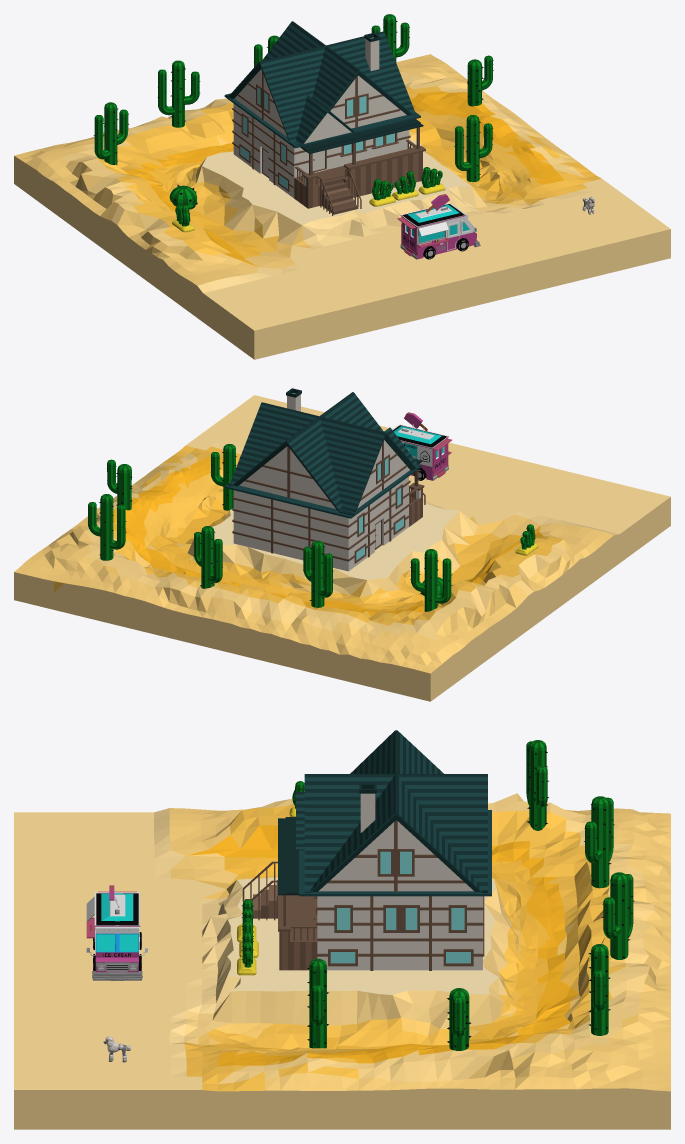
3 views of the same model, one above another, from view 1: azimuth 30°, elevation 25°; view 2: azimuth 150°, elevation 25°; view 3: azimuth 270°, elevation 25° (orthographic). The views are drawn at different scales.
Parts seen in each view (by area): view 1: Cube.001, Cube.793, VEHICLES_ICE_CREAM_TRUCK, Cylinder.037, Cylinder.044, Cylinder.045, Cylinder.038, Cylinder.042, Cylinder.039, Cylinder.041, Sphere.023, Cylinder.040; view 2: Cube.001, Cube.793, VEHICLES_ICE_CREAM_TRUCK, Cylinder.042, Cylinder.045, Cylinder.044, Cylinder.043, Cylinder.037, Cylinder.038; view 3: Cube.001, Cube.793, VEHICLES_ICE_CREAM_TRUCK, Cylinder.043, Cylinder.044, Cylinder.045, Cylinder.042, Cylinder.037, Cylinder.038, Cylinder.041.
Part boxes in pixels (x1=…): Cube.001: x1=14, y1=54, x2=670, y2=359; Cube.793: x1=224, y1=21, x2=425, y2=215; VEHICLES_ICE_CREAM_TRUCK: x1=397, y1=194, x2=480, y2=259; Cylinder.037: x1=454, y1=115, x2=493, y2=182; Cylinder.044: x1=157, y1=60, x2=200, y2=127; Cylinder.045: x1=93, y1=102, x2=129, y2=164; Cylinder.038: x1=467, y1=55, x2=493, y2=106; Cylinder.042: x1=371, y1=14, x2=409, y2=62; Cylinder.039: x1=369, y1=179, x2=395, y2=206; Cylinder.041: x1=418, y1=167, x2=445, y2=194; Sphere.023: x1=169, y1=184, x2=197, y2=209; Cylinder.040: x1=392, y1=171, x2=418, y2=200; Cube.001: x1=14, y1=395, x2=670, y2=701; Cube.793: x1=225, y1=388, x2=425, y2=571; VEHICLES_ICE_CREAM_TRUCK: x1=392, y1=412, x2=451, y2=480; Cylinder.042: x1=88, y1=494, x2=126, y2=560; Cylinder.045: x1=410, y1=549, x2=452, y2=611; Cylinder.044: x1=303, y1=540, x2=333, y2=607; Cylinder.043: x1=193, y1=526, x2=222, y2=588; Cylinder.037: x1=211, y1=444, x2=240, y2=510; Cylinder.038: x1=107, y1=459, x2=131, y2=510; Cube.001: x1=14, y1=793, x2=670, y2=1129; Cube.793: x1=242, y1=730, x2=491, y2=970; VEHICLES_ICE_CREAM_TRUCK: x1=86, y1=885, x2=147, y2=980; Cylinder.043: x1=602, y1=872, x2=634, y2=959; Cylinder.044: x1=584, y1=796, x2=614, y2=888; Cylinder.045: x1=526, y1=740, x2=548, y2=830; Cylinder.042: x1=588, y1=944, x2=610, y2=1035; Cylinder.037: x1=307, y1=958, x2=328, y2=1048; Cylinder.038: x1=447, y1=988, x2=471, y2=1050; Cylinder.041: x1=237, y1=932, x2=256, y2=975.
Bounding box in the file's own units: 4002 × 1643 × 4001.
Materials: 30 (3 with a texture image).
